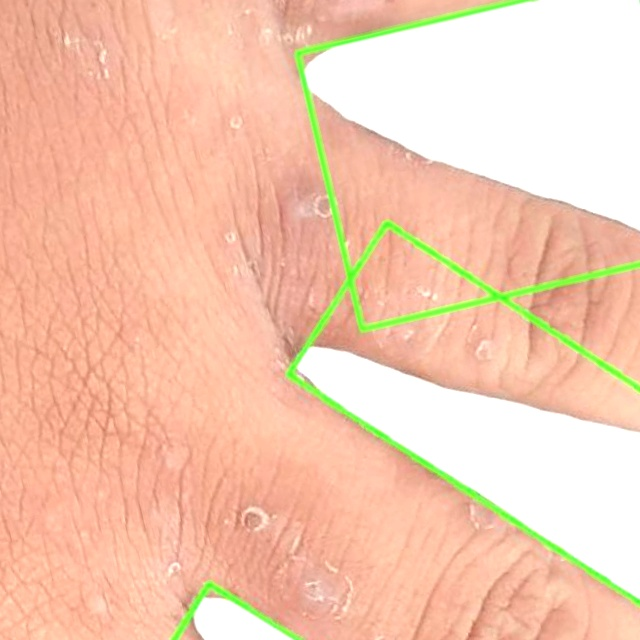Scabies: (287, 218, 639, 580), (297, 0, 639, 329)
